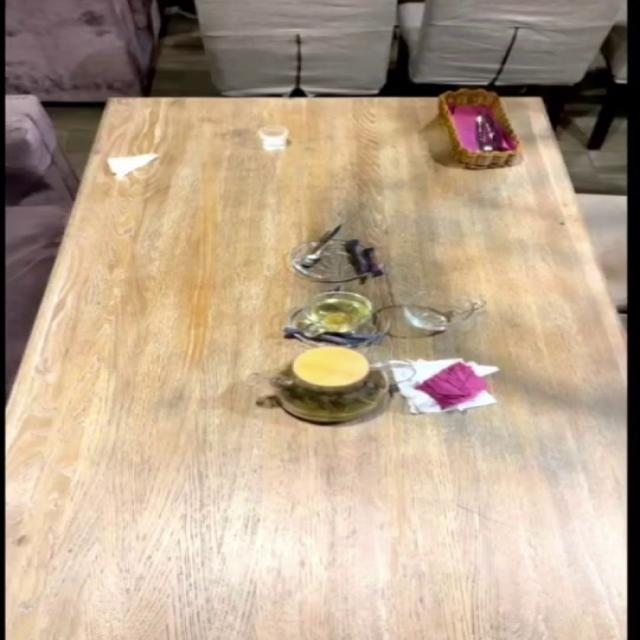tea: (268, 345, 390, 423)
